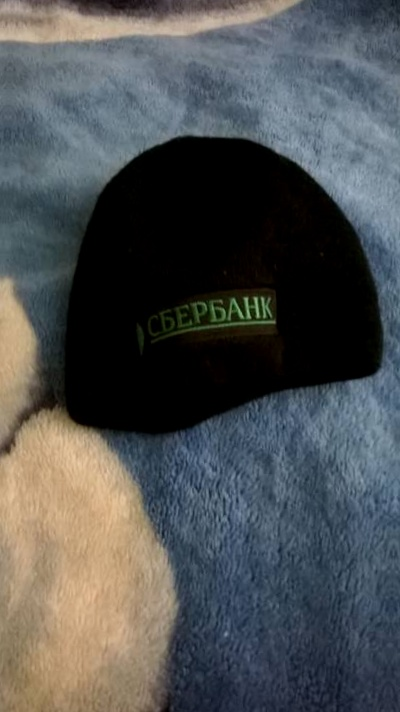Hat: (11, 105, 400, 483), (397, 120, 400, 498)
